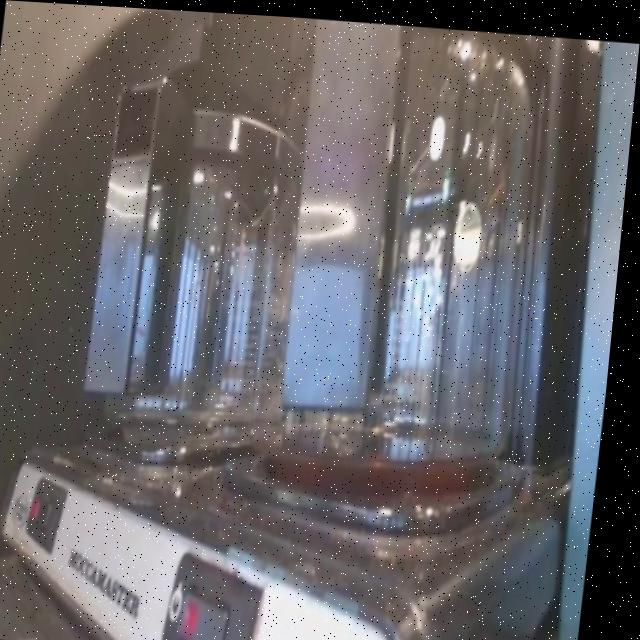nocoffee: (252, 92, 554, 512), (65, 123, 287, 467)
